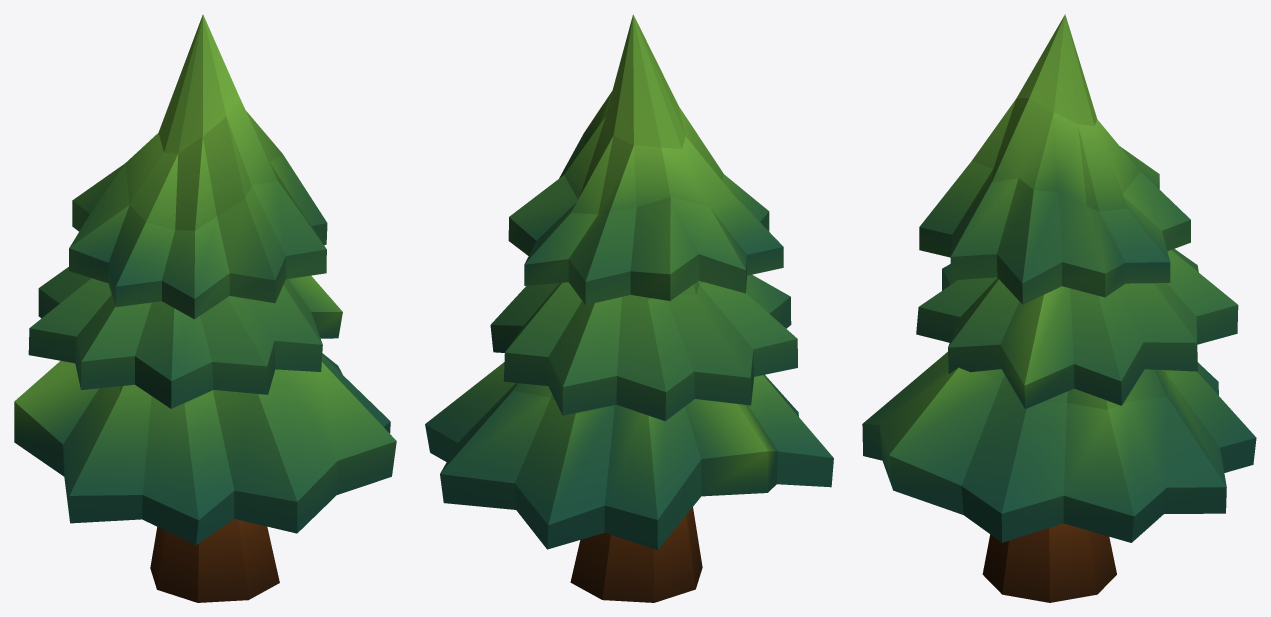
Rendered from Tree_Fern_Small_SumAut.fbx.
The picture shows the model from 3 angles, left to right: view 1: azimuth 30°, elevation 25°; view 2: azimuth 150°, elevation 25°; view 3: azimuth 270°, elevation 25°; orthographic projection.
Parts seen in each view (by area): view 1: Tree_Fern_Small_SumAut; view 2: Tree_Fern_Small_SumAut; view 3: Tree_Fern_Small_SumAut.
Boxes of the visible parts, x1,y1,x2,y2 form: Tree_Fern_Small_SumAut: (14, 14, 396, 602); Tree_Fern_Small_SumAut: (425, 14, 833, 602); Tree_Fern_Small_SumAut: (862, 14, 1256, 602).
Size of the model in its own units: 162 by 257 by 164.
